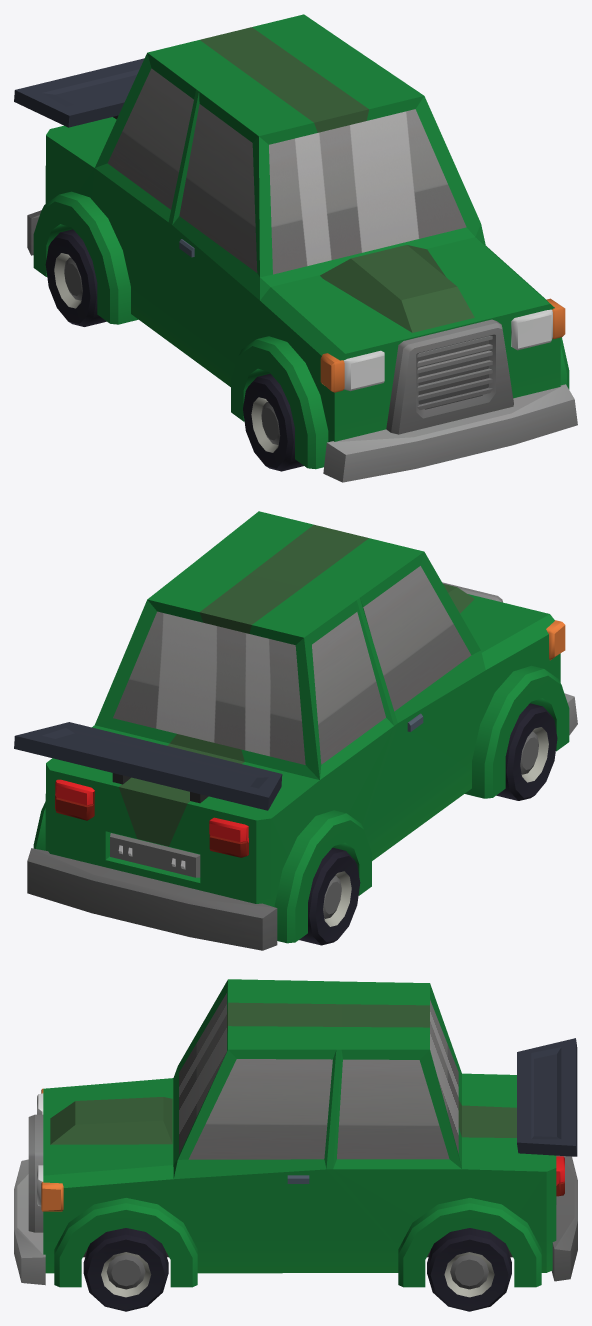
The model's file is SportCar_8.glb.
The picture shows the model from 3 angles, top to bottom: view 1: azimuth 30°, elevation 25°; view 2: azimuth 150°, elevation 25°; view 3: azimuth 270°, elevation 25°; orthographic projection. The views are drawn at different scales.
Visible parts, largest first — view 1: SportCar_8, Wheel_fr, Wheel_br; view 2: SportCar_8, Wheel_br, Wheel_fr; view 3: SportCar_8, Wheel_fl, Wheel_bl.
Part boxes in pixels (left/top/right/bottom): SportCar_8: left=14, top=14, right=577, bottom=482; Wheel_fr: left=243, top=373, right=303, bottom=471; Wheel_br: left=45, top=229, right=106, bottom=326; SportCar_8: left=14, top=511, right=577, bottom=950; Wheel_br: left=299, top=847, right=360, bottom=945; Wheel_fr: left=496, top=703, right=557, bottom=800; SportCar_8: left=14, top=979, right=577, bottom=1287; Wheel_fl: left=83, top=1228, right=168, bottom=1311; Wheel_bl: left=427, top=1228, right=511, bottom=1311.
Size of the model in its own units: 1.12 by 1.1 by 2.33.
7 materials, 7 textured.
